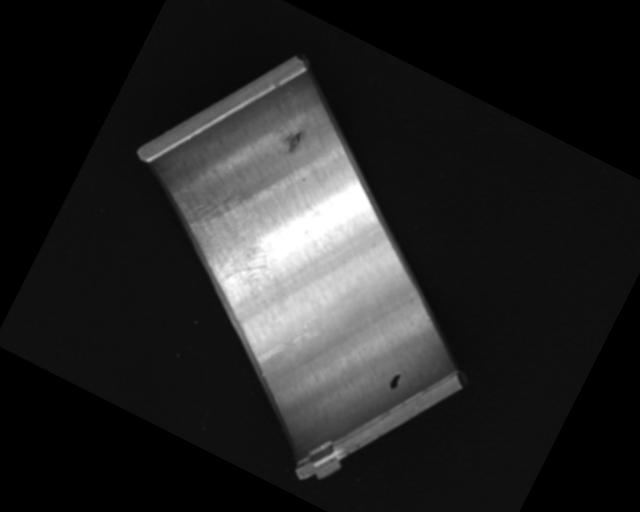blot: (386, 370, 403, 392)
bruise: (277, 125, 306, 159)
nick: (254, 297, 327, 381)
scratch: (143, 167, 306, 315)
